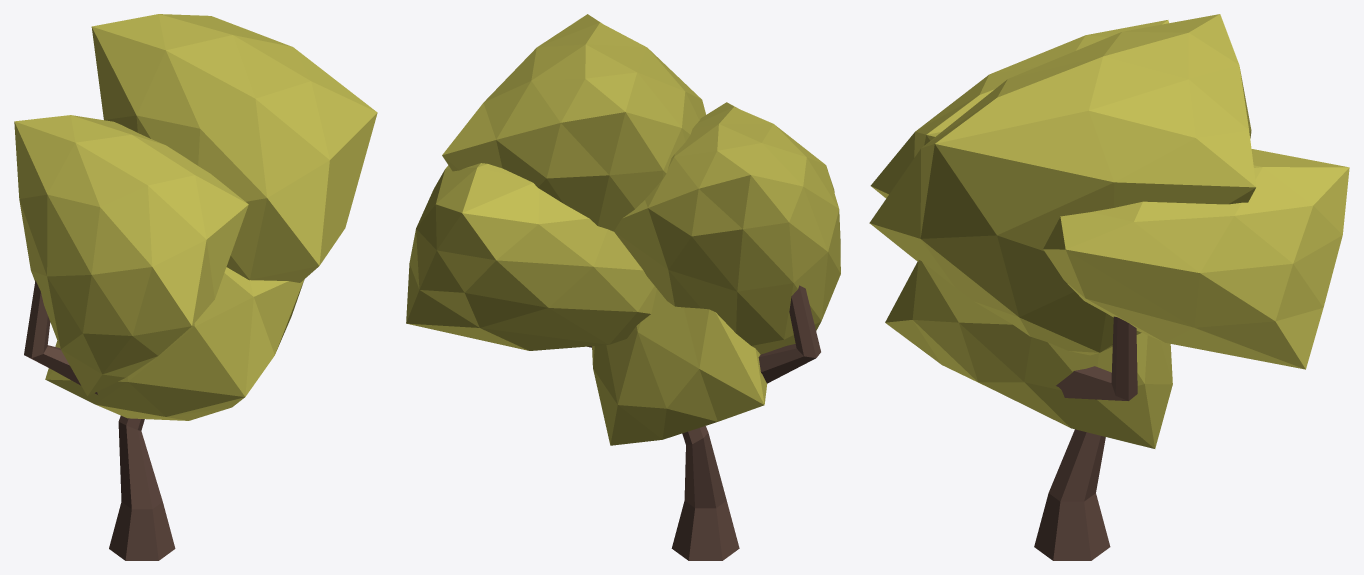
File: TreeLarge1.fbx
3 renders of one model, left to right at view 1: azimuth 30°, elevation 25°; view 2: azimuth 150°, elevation 25°; view 3: azimuth 270°, elevation 25°, orthographic. The views are drawn at different scales.
Parts seen in each view (by area): view 1: Icosphere.010; view 2: Icosphere.010; view 3: Icosphere.010.
Boxes of the visible parts, <box> form: Icosphere.010: <box>14,14,377,560</box>; Icosphere.010: <box>406,14,840,560</box>; Icosphere.010: <box>869,14,1349,560</box>.
Bounding box in the file's own units: 549 × 769 × 607.
